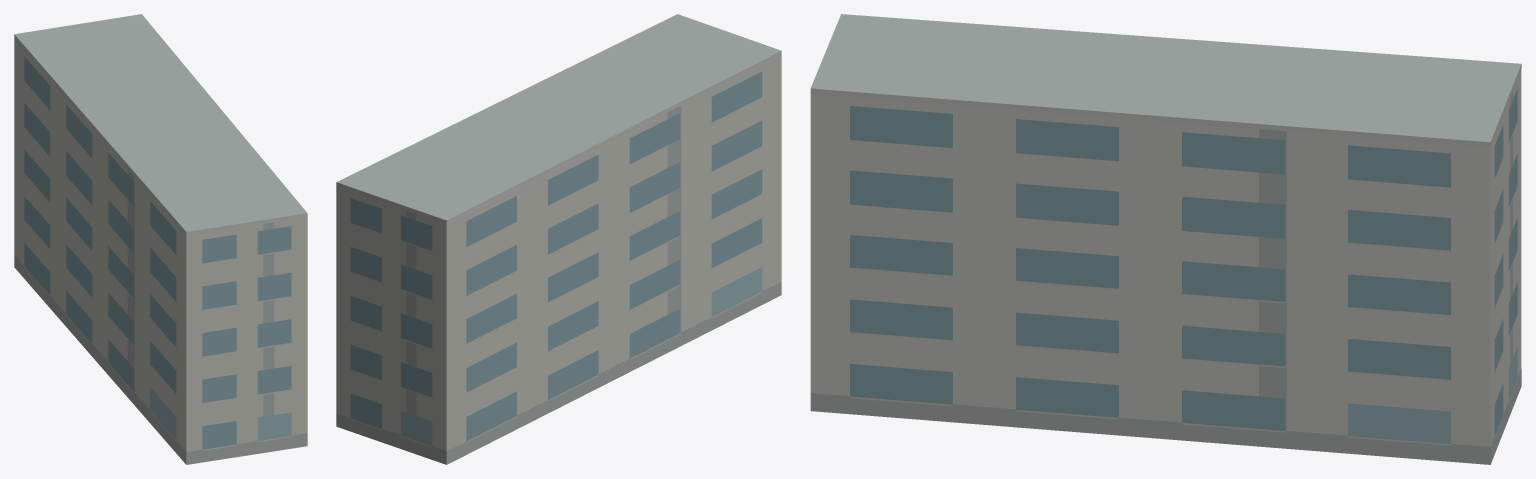
File: residential-3e68a45b-b04f-4683-957f-41a5b5ae155a.glb
3 renders of one model, left to right at view 1: azimuth 30°, elevation 25°; view 2: azimuth 150°, elevation 25°; view 3: azimuth 270°, elevation 25°, orthographic. The views are drawn at different scales.
Parts seen in each view (by area): view 1: residential-3e68a45b-b04f-4683-957f-41a5b5ae155a.tmp; view 2: residential-3e68a45b-b04f-4683-957f-41a5b5ae155a.tmp; view 3: residential-3e68a45b-b04f-4683-957f-41a5b5ae155a.tmp.
Part boxes in pixels (bbox=[...]): residential-3e68a45b-b04f-4683-957f-41a5b5ae155a.tmp: bbox=[14, 14, 307, 464]; residential-3e68a45b-b04f-4683-957f-41a5b5ae155a.tmp: bbox=[336, 14, 781, 464]; residential-3e68a45b-b04f-4683-957f-41a5b5ae155a.tmp: bbox=[810, 14, 1521, 464].
Size of the model in its own units: 13.02 by 15.25 by 30.47.
